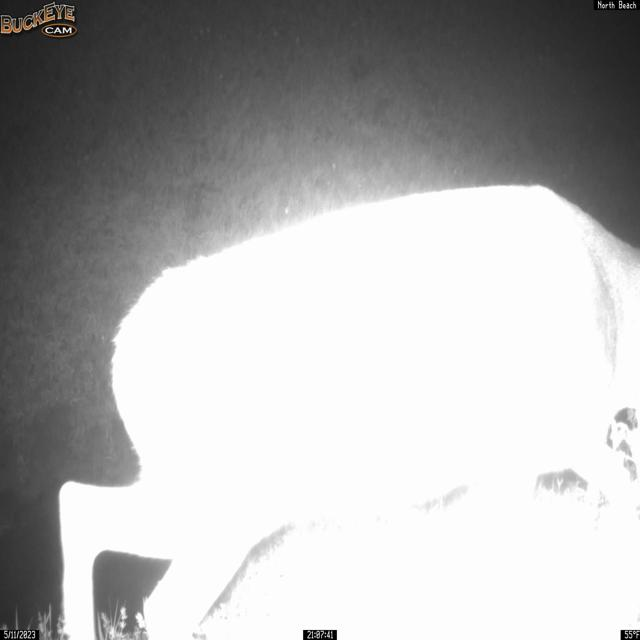deer: (57, 180, 639, 639)
